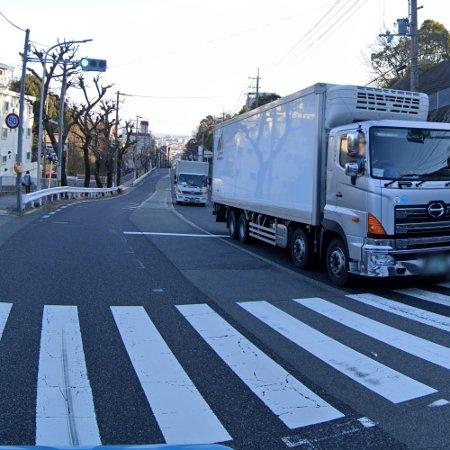crosswalks: (0, 287, 450, 448)
